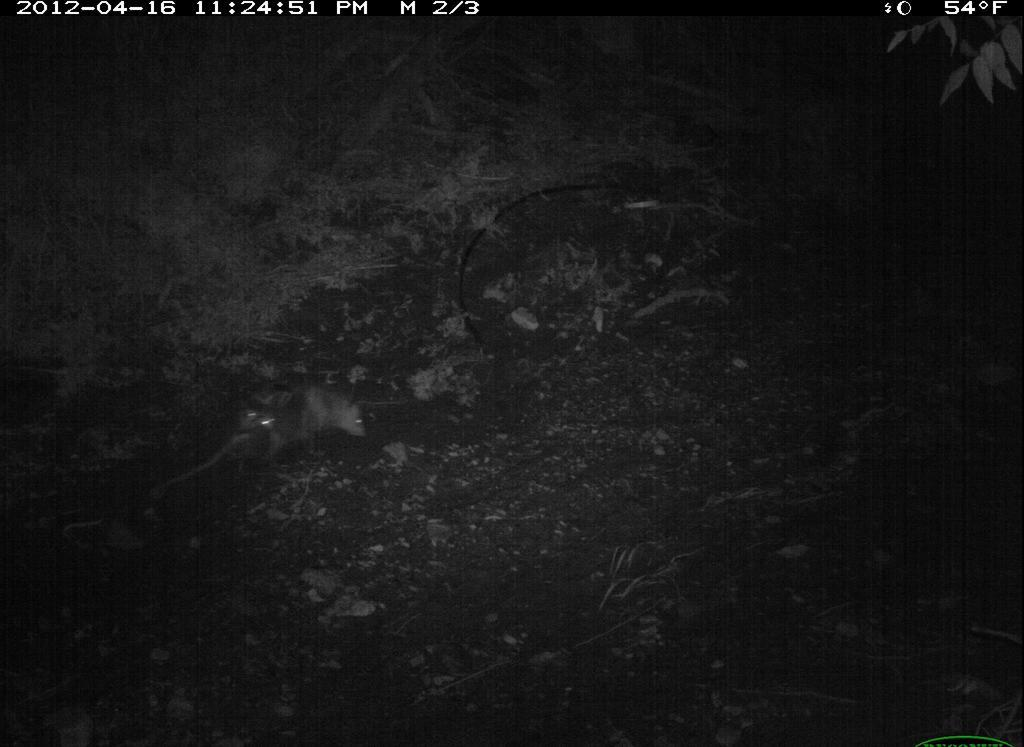opossum: (154, 383, 372, 498)
